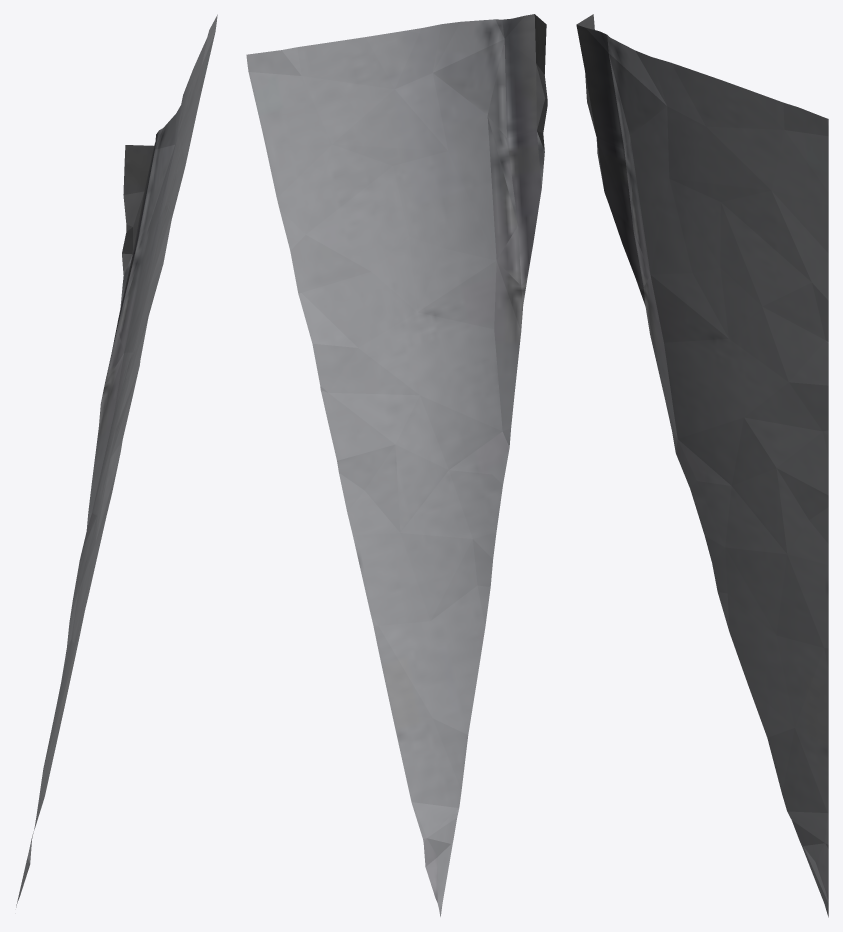
3 views of the same model, side by side, from view 1: azimuth 30°, elevation 25°; view 2: azimuth 150°, elevation 25°; view 3: azimuth 270°, elevation 25° (orthographic). The views are drawn at different scales.
Size of the model in its own units: 0.3282 by 1.32 by 0.3333.
Materials: 1 (1 with a texture image).
